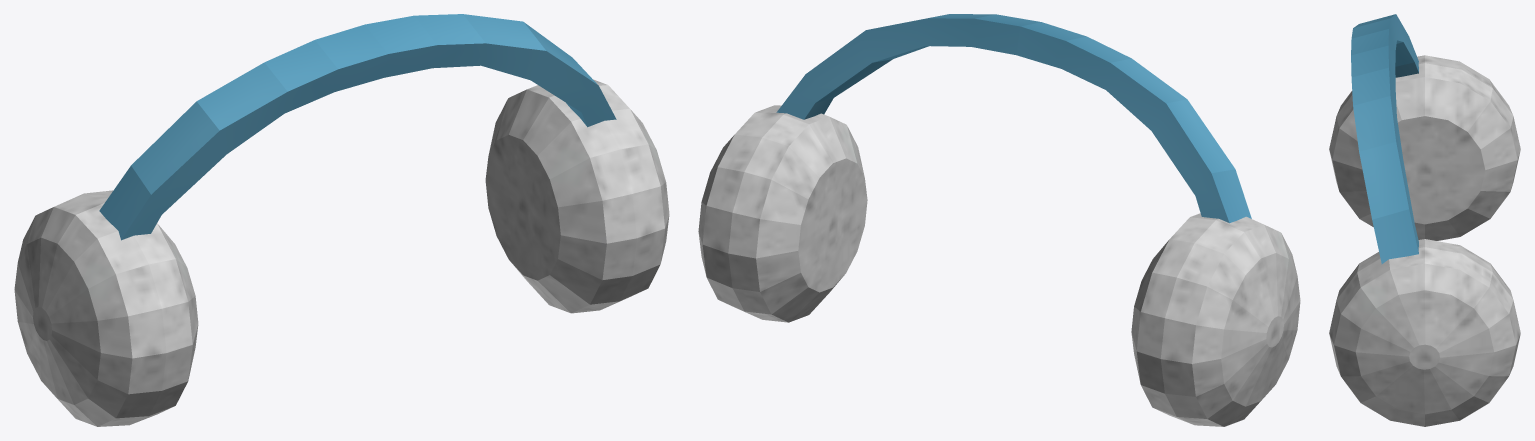
File: earmuffswhite.fbx
3 views of the same model, side by side, from view 1: azimuth 30°, elevation 25°; view 2: azimuth 150°, elevation 25°; view 3: azimuth 270°, elevation 25° (orthographic). The views are drawn at different scales.
Visible parts, largest first — view 1: earmuffswhite; view 2: earmuffswhite; view 3: earmuffswhite.
Boxes of the visible parts, x1=… form: earmuffswhite: x1=14, y1=14, x2=669, y2=426; earmuffswhite: x1=698, y1=14, x2=1300, y2=426; earmuffswhite: x1=1329, y1=14, x2=1520, y2=426.
Size of the model in its own units: 34.91 by 19.55 by 12.06.
